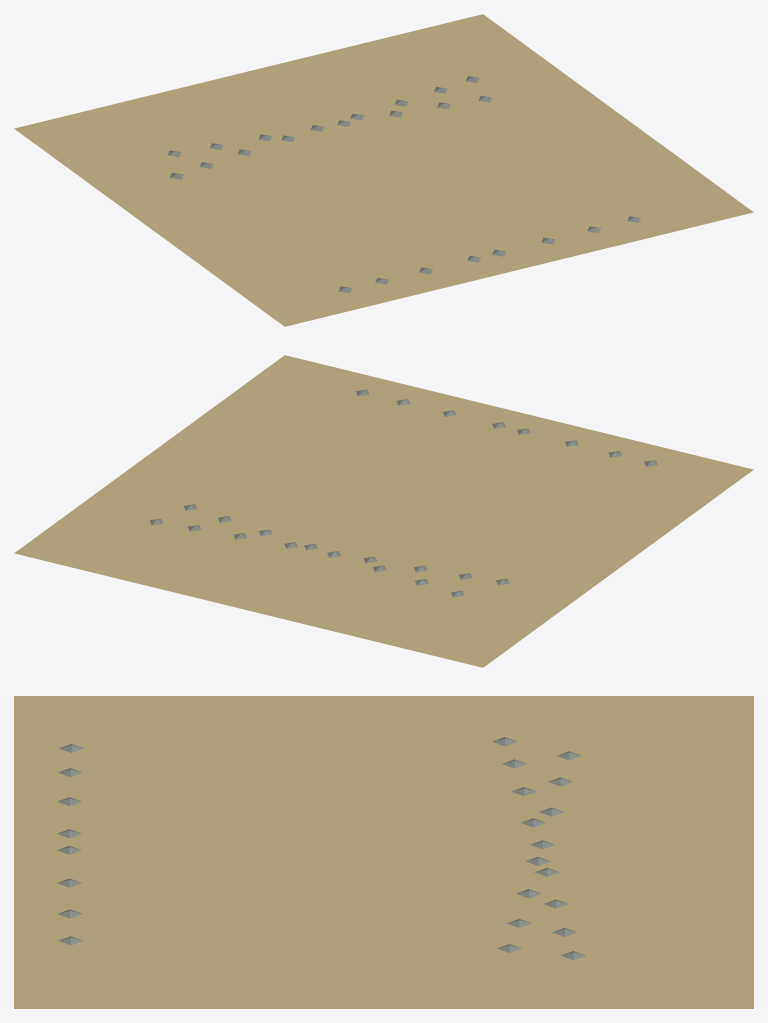
The model's file is GravelTile.obj.
The picture shows the model from 3 angles, top to bottom: view 1: azimuth 30°, elevation 25°; view 2: azimuth 150°, elevation 25°; view 3: azimuth 270°, elevation 25°; orthographic projection. The views are drawn at different scales.
Visible parts, largest first — view 1: GravelTile; view 2: GravelTile; view 3: GravelTile.
Part boxes in pixels (x1,y1,x2,y2): GravelTile: (14,14,753,326); GravelTile: (14,355,753,667); GravelTile: (14,696,753,1008).
Size of the model in its own units: 4 by 0.036 by 4.
